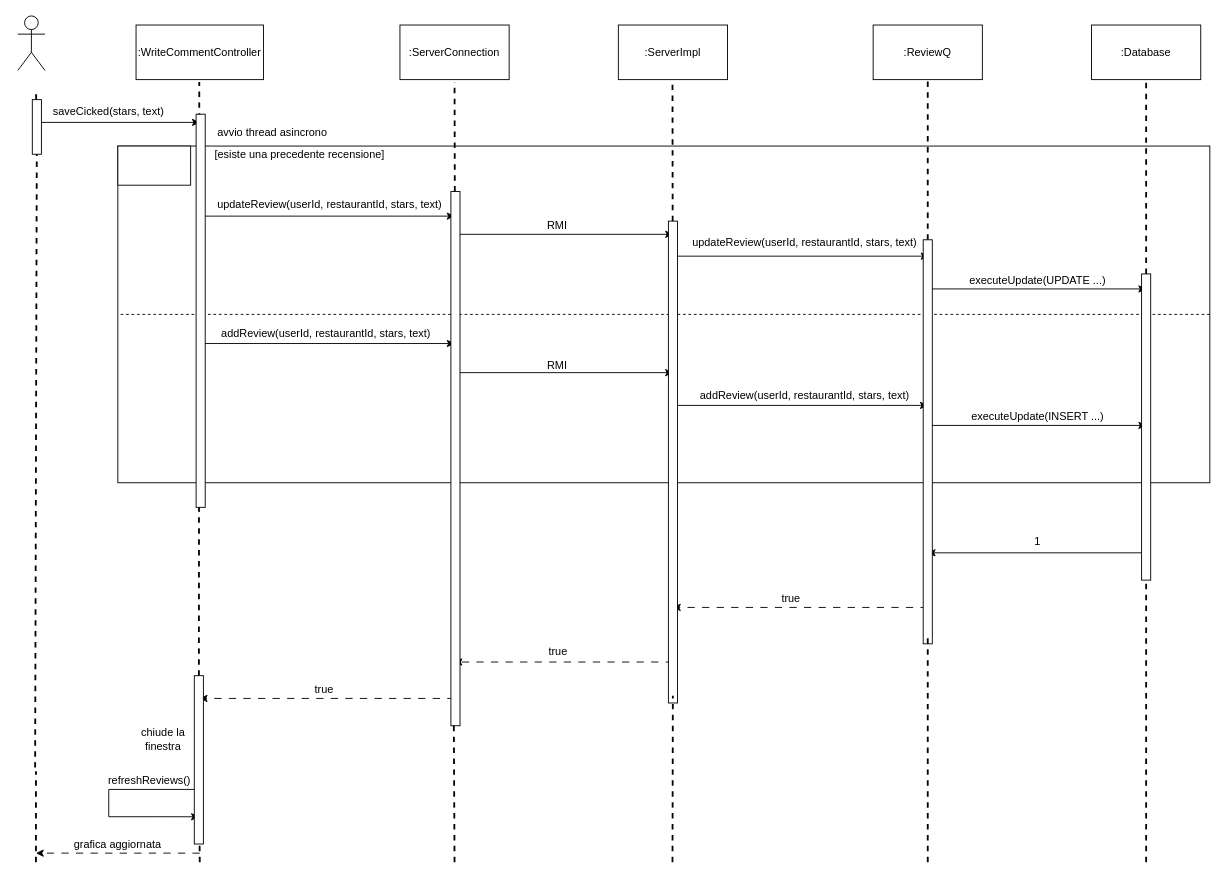
Some shapes in this 1227 by 880 pixel diagram are drawn without their labels. The centre of each missing label's shape, as x and y in pixels:
Alt: the point at 154,165
Utente: the point at 31,43
